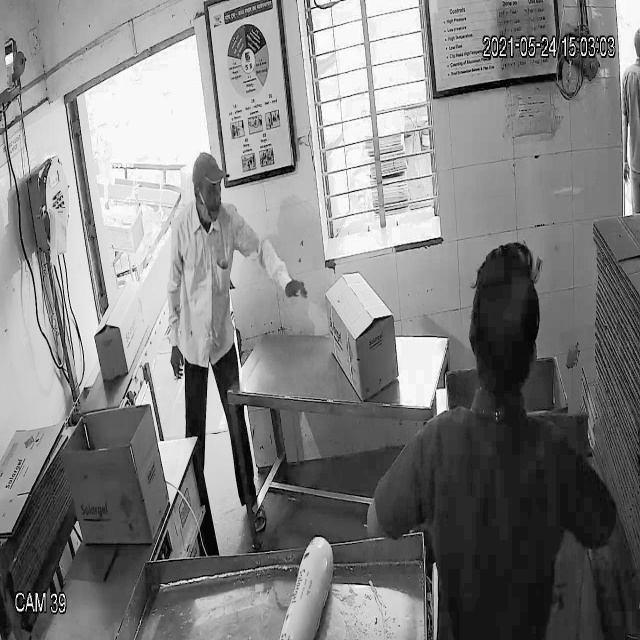Sin_gafas: (191, 178, 226, 204)
